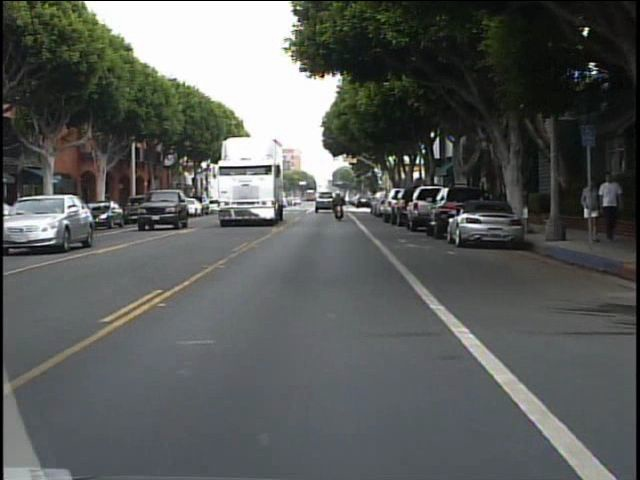person: (597, 170, 622, 242), (575, 175, 597, 239), (330, 190, 350, 221)
